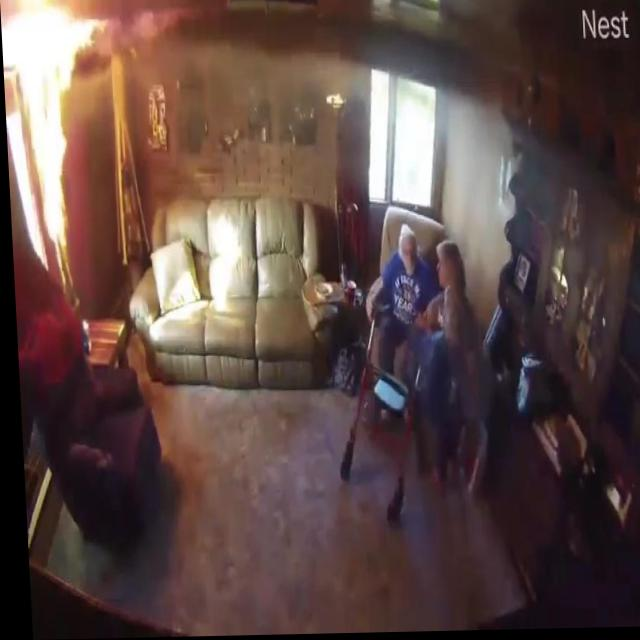fire: (3, 0, 68, 271), (2, 10, 110, 89)
